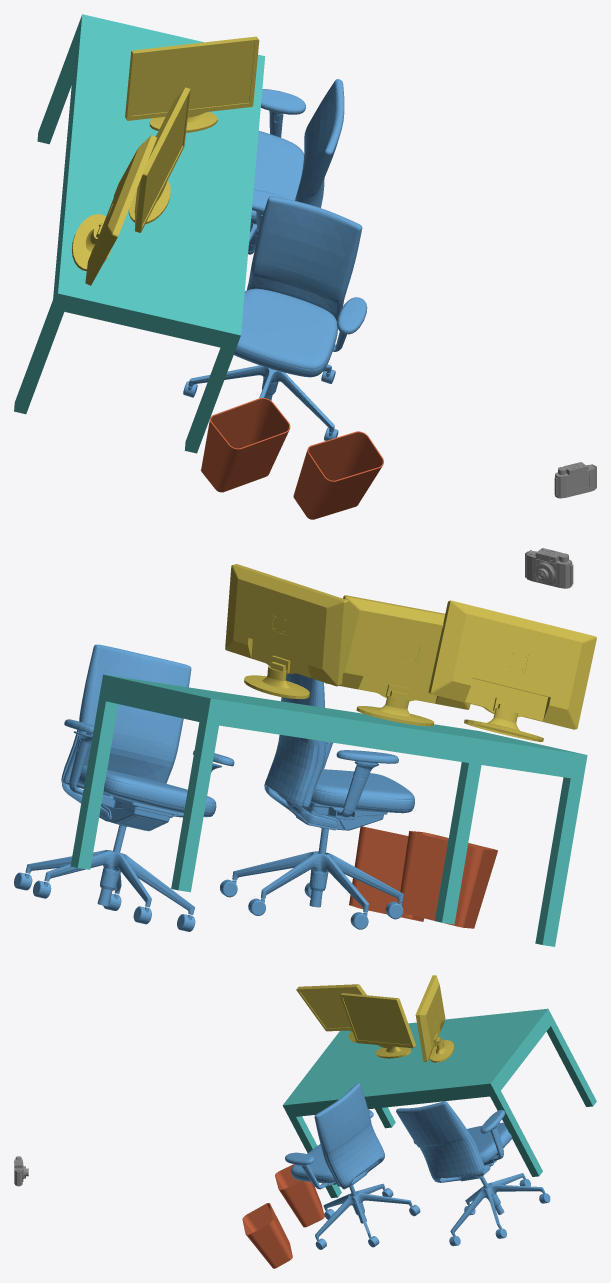
3 renders of one model, top to bottom at view 1: azimuth 30°, elevation 25°; view 2: azimuth 150°, elevation 25°; view 3: azimuth 270°, elevation 25°, orthographic. The views are drawn at different scales.
Parts seen in each view (by area): view 1: world; view 2: world; view 3: world.
Part boxes in pixels (<box>): world: <box>14,14,596,519</box>; world: <box>14,548,596,946</box>; world: <box>14,975,596,1268</box>.
Bounding box in the file's own units: 1.9 × 1.78 × 3.62.
